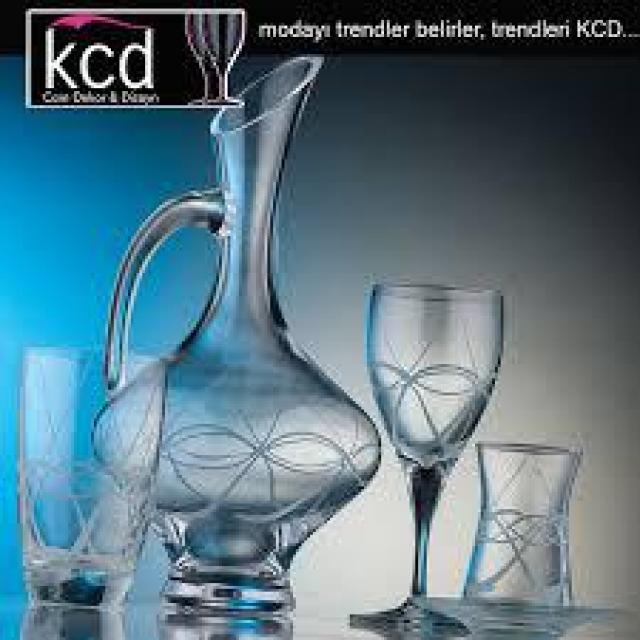non-organic waste: (105, 51, 384, 609), (346, 281, 506, 640), (418, 441, 629, 640), (17, 344, 168, 612)
